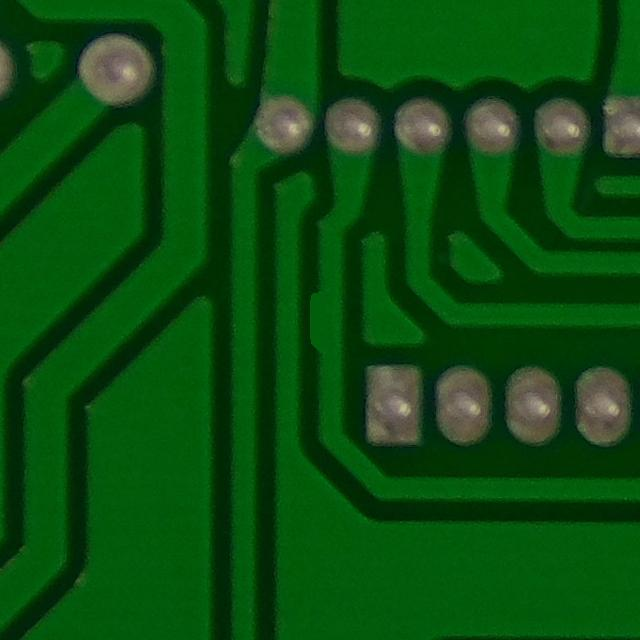spur: (299, 278, 341, 363)
